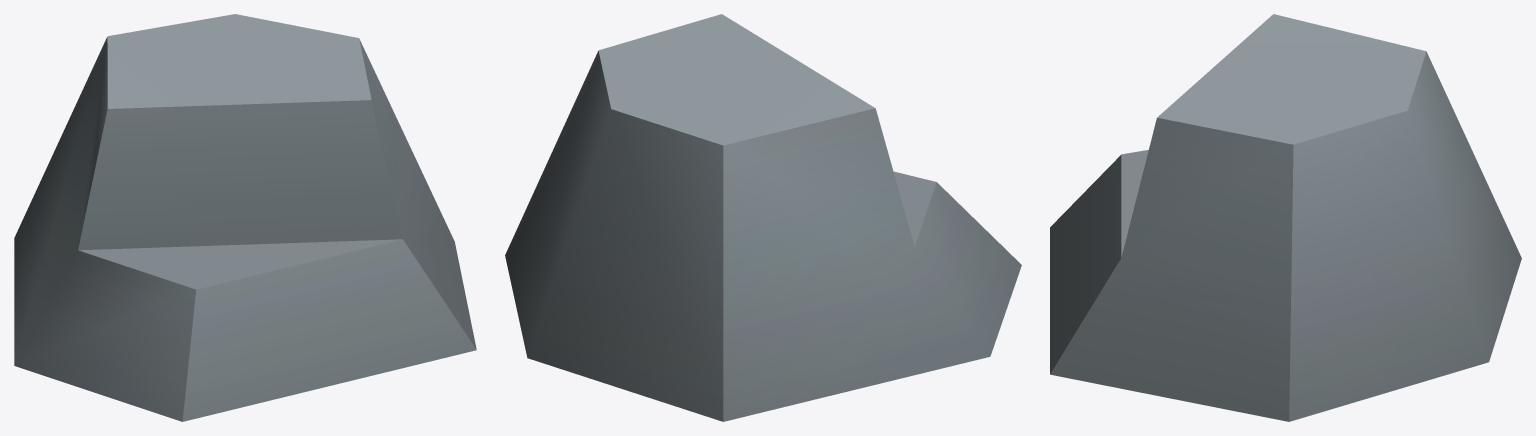
File: kaykit-medieval-hexagon-pack-rock-single-b.glb
3 renders of one model, left to right at view 1: azimuth 30°, elevation 25°; view 2: azimuth 150°, elevation 25°; view 3: azimuth 270°, elevation 25°, orthographic. The views are drawn at different scales.
Visible parts, largest first — view 1: rock_single_B; view 2: rock_single_B; view 3: rock_single_B.
Boxes of the visible parts, left/top/right/bottom form: rock_single_B: left=14, top=14, right=476, bottom=421; rock_single_B: left=505, top=14, right=1021, bottom=421; rock_single_B: left=1050, top=14, right=1521, bottom=421.
Bounding box in the file's own units: 0.2866 × 0.1346 × 0.2497.
Materials: 1 (1 with a texture image).
